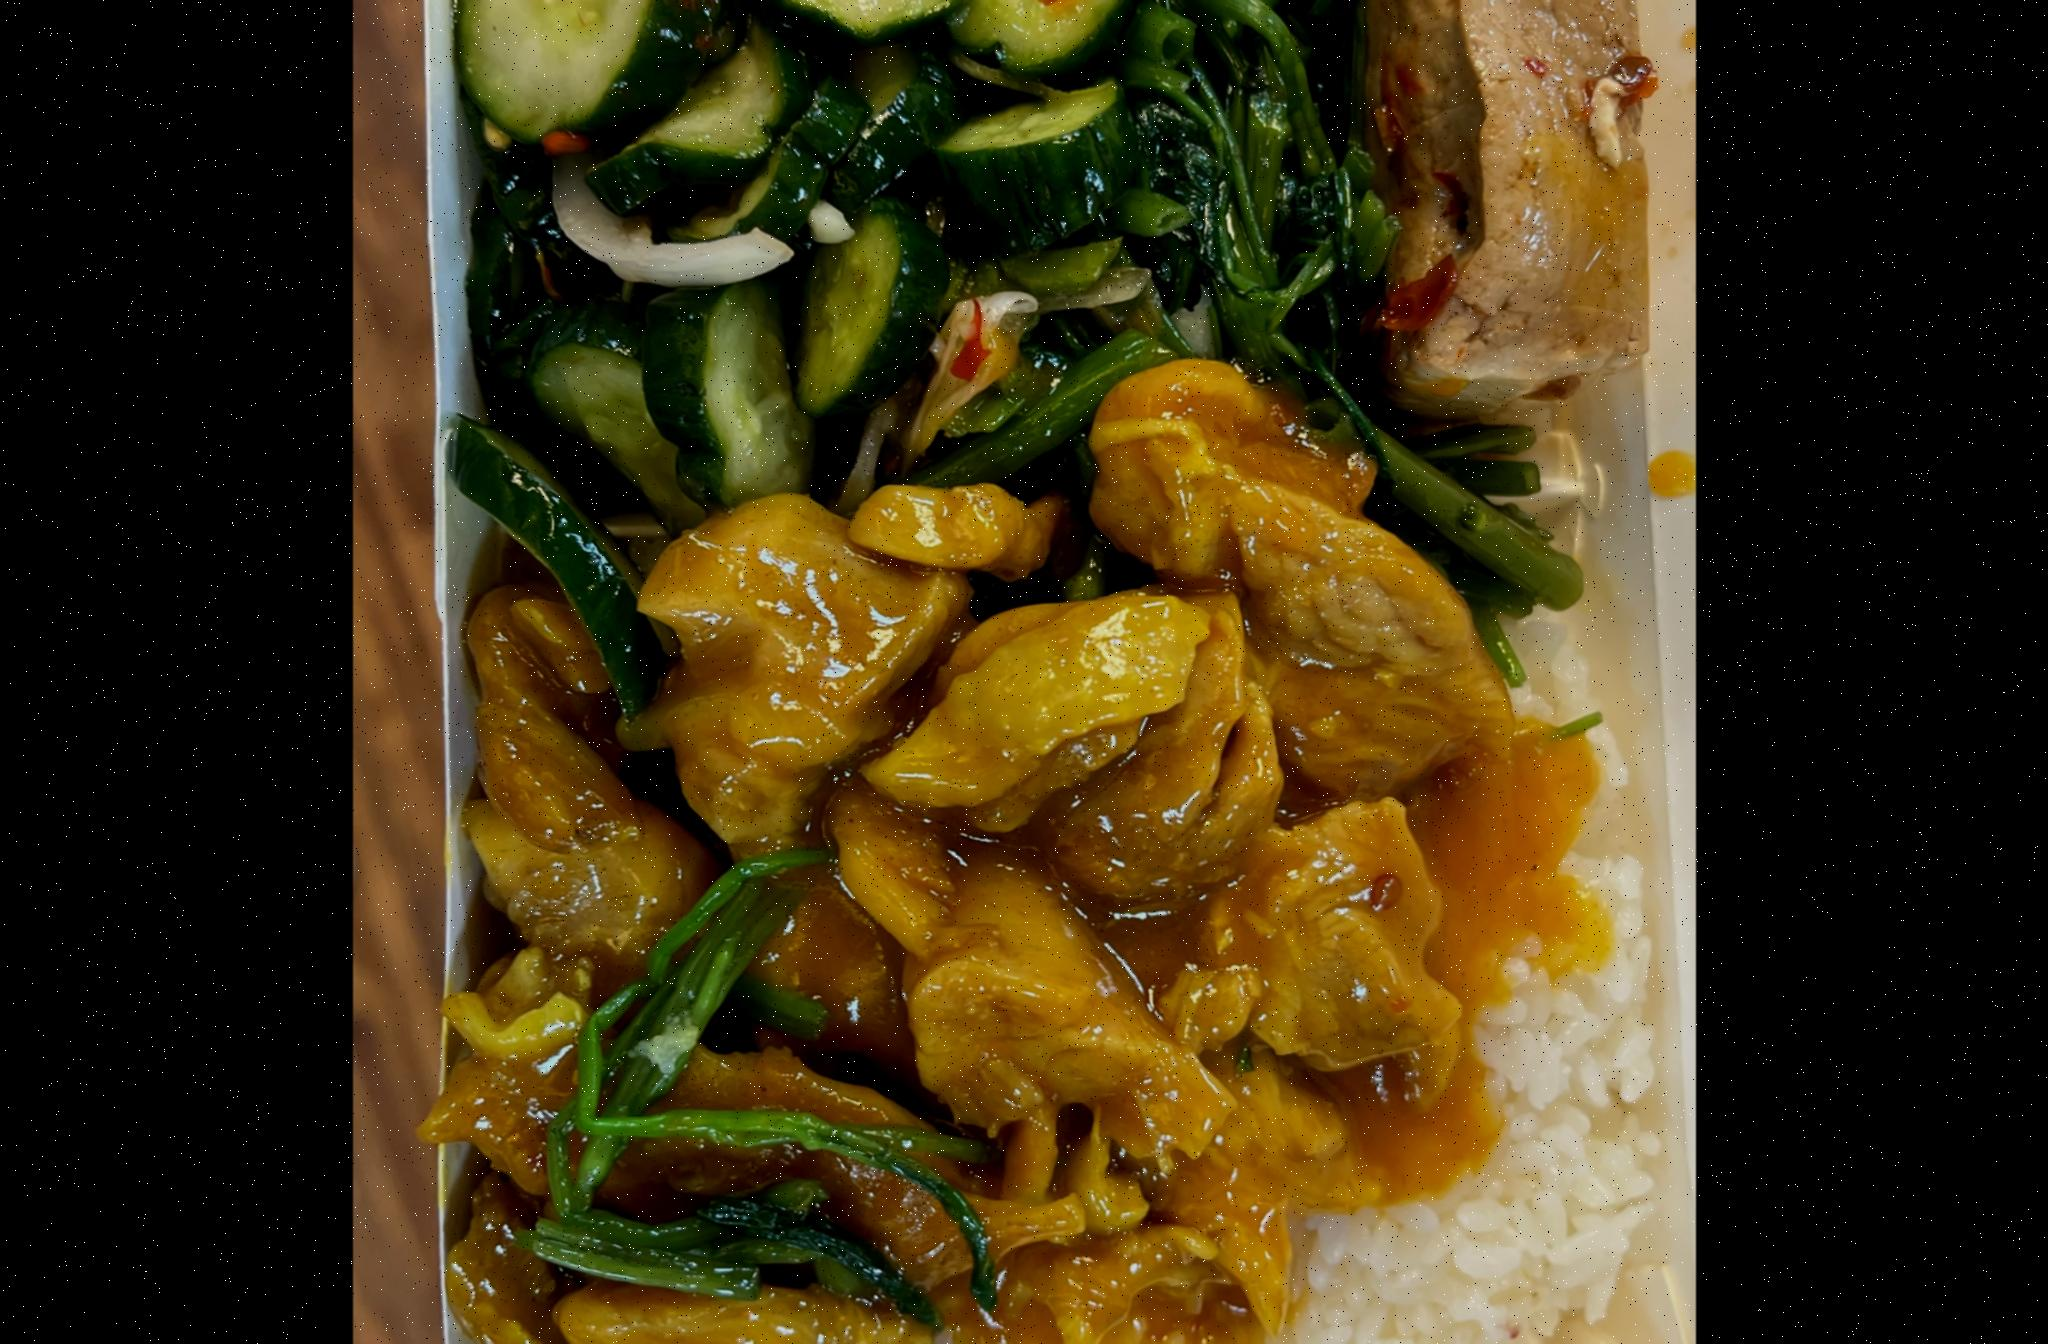big herbal chicken leg: (879, 591, 1666, 1344)
braised fish fillet: (391, 0, 1675, 1344), (469, 0, 1133, 511), (1090, 0, 1393, 450), (1376, 0, 1678, 438)
braised pork: (489, 397, 1598, 1344)
